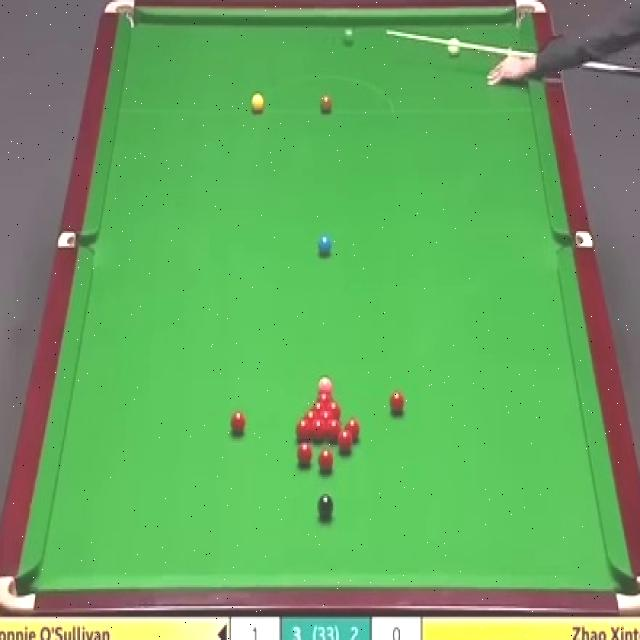black-ball: (318, 494, 334, 521)
blue-ball: (318, 235, 332, 256)
brown-ball: (319, 95, 333, 114)
green-ball: (340, 22, 357, 48)
pink-ball: (317, 374, 332, 388)
red-ball: (229, 411, 247, 438), (297, 442, 314, 467), (389, 391, 405, 417), (318, 448, 334, 473), (294, 418, 310, 442), (326, 419, 342, 443), (345, 418, 359, 442), (338, 431, 352, 454), (311, 418, 325, 440), (327, 400, 341, 418), (314, 389, 333, 400), (310, 400, 326, 410), (303, 410, 318, 420), (318, 410, 334, 419)
white-ball: (446, 36, 461, 61)
yellow-ball: (250, 94, 264, 114)
